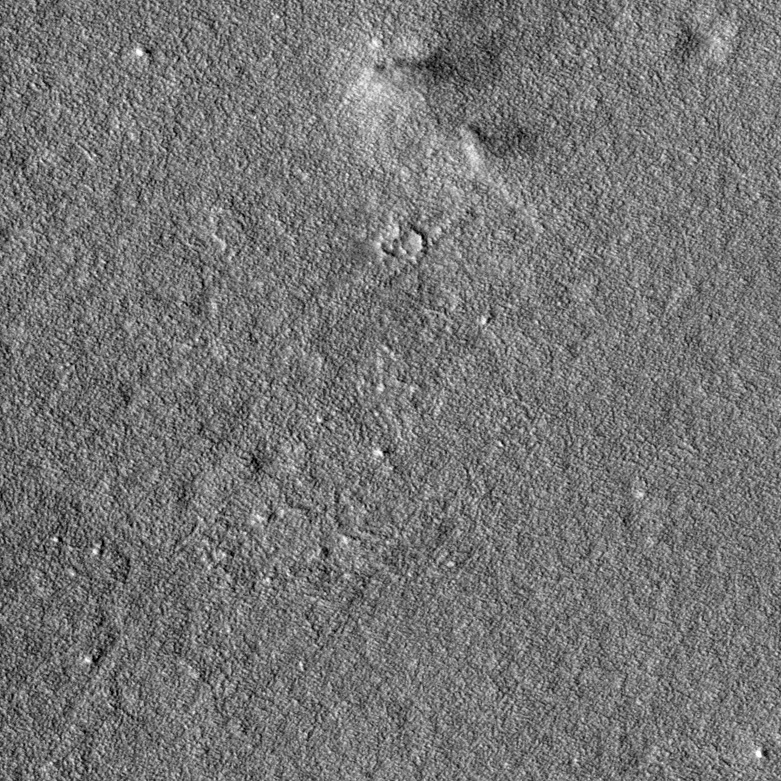dust_devil: (346, 35, 507, 112), (456, 118, 540, 170)
